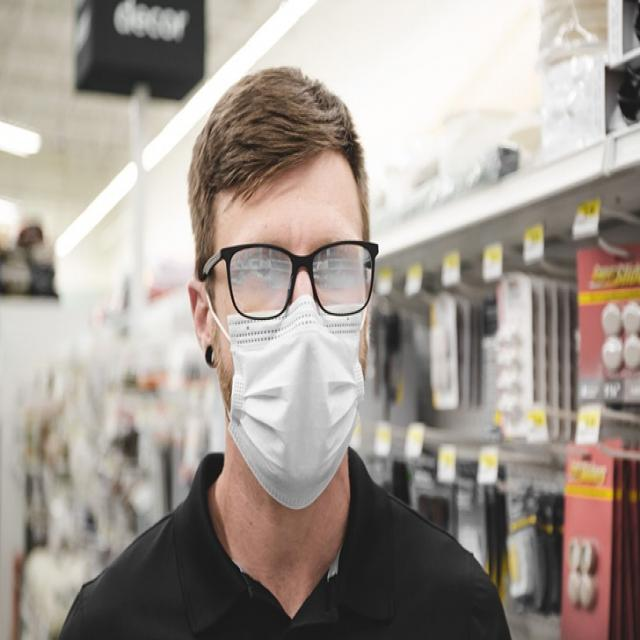Glasses: (203, 236, 387, 332)
